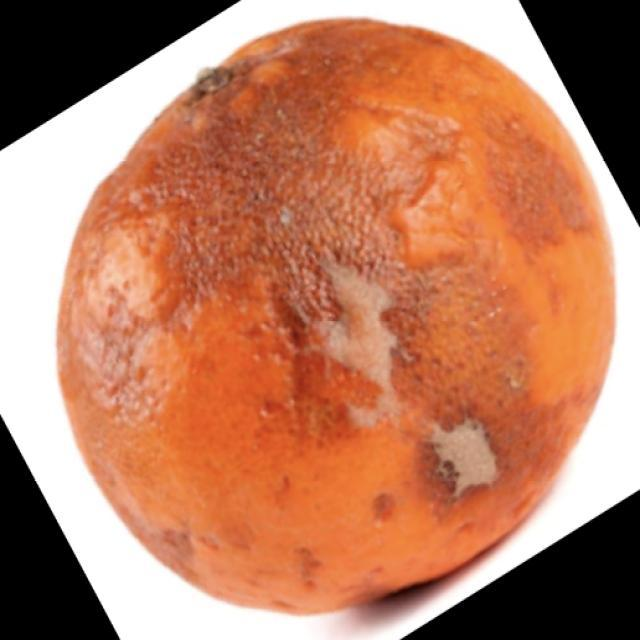sangat-busuk: (59, 20, 613, 612)
